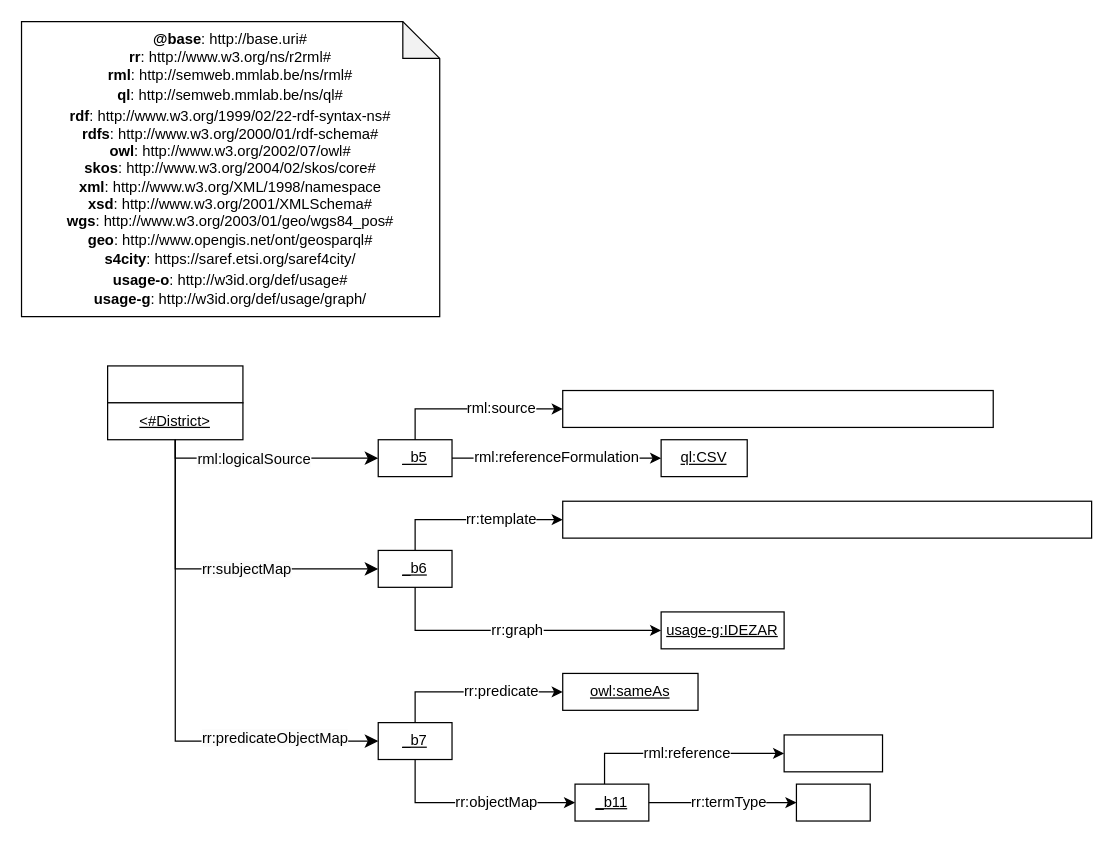
Image size: 1113x843. Some labels were removed from this diagram. The shapes that lost their labels are listed below. From the top down, each one's centre as x and y in pixels, then its label:
point (174, 384): rr:TriplesMap
point (777, 408): "./data/IDEZAR/Distritos/linked/distritos.csv"
point (826, 519): "http://w3id.org/def/usage/resource/District/IDEZAR-id-{OBJECTID}"
point (833, 753): "wikidata"
point (832, 802): rr:IRI
